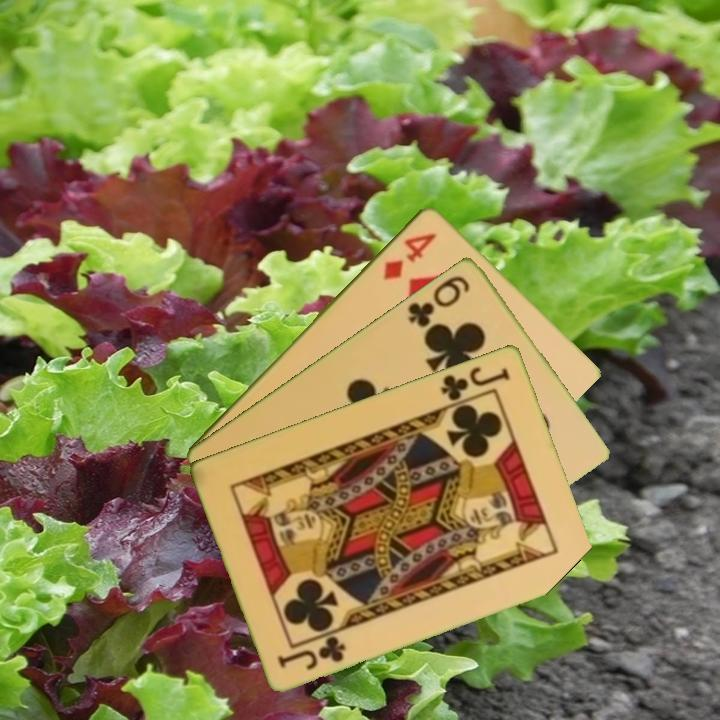4d: (379, 228, 440, 282)
6c: (404, 271, 473, 330)
Jc: (437, 362, 513, 404), (274, 632, 349, 672)
